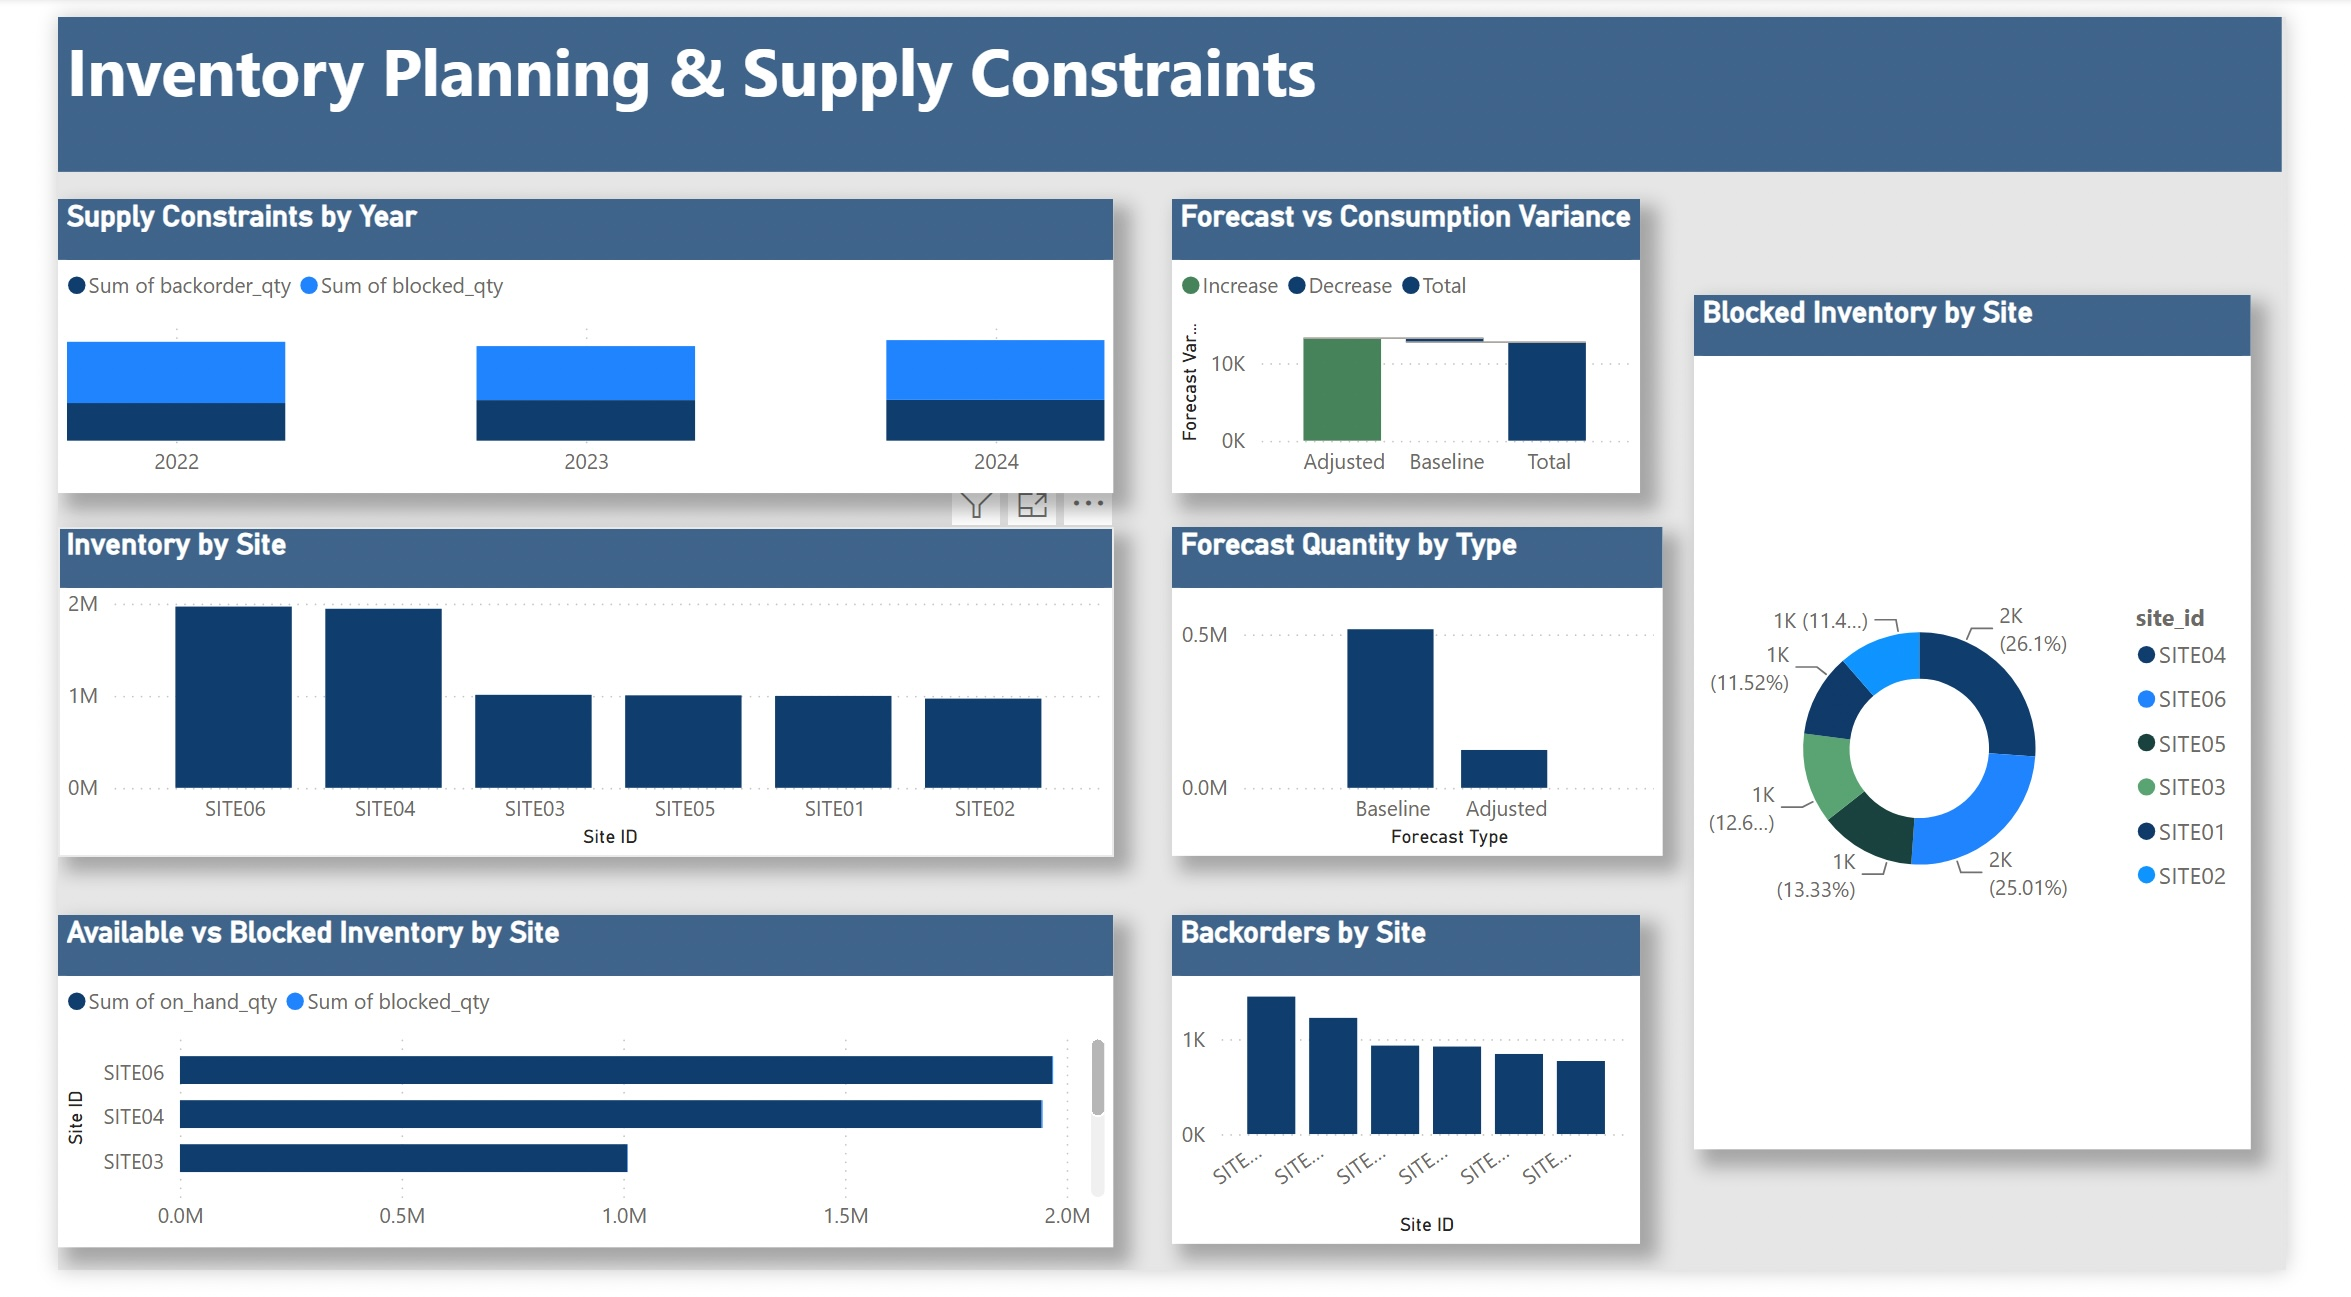

Layout of this report page (visuals, bound fields, positions):
{"tool":"powerbi","page":{"name":"Inventory Planning","canvas":[1280,720],"ordinal":2},"visuals":[{"type":"clusteredColumnChart","title":"Inventory by Site ","fields":{"Category":["supply_chain_project supply_chain_history.site_id"],"Y":["Sum(supply_chain_project supply_chain_history.on_hand_qty)"]},"box":[0,293.3,606.7,188.9],"z":0},{"type":"clusteredColumnChart","title":"Forecast Quantity by Type","fields":{"Category":["supply_chain_project supply_chain_history.forecast_type"],"Y":["Sum(supply_chain_project supply_chain_history.forecast_qty)"]},"box":[640,293.3,282.2,188.9],"z":1000},{"type":"clusteredColumnChart","title":"Backorders by Site","fields":{"Category":["supply_chain_project supply_chain_history.site_id"],"Y":["Sum(supply_chain_project supply_chain_history.backorder_qty)"]},"box":[640,515.6,268.9,188.9],"z":2000},{"type":"columnChart","title":"Supply Constraints by Year","fields":{"Category":["supply_chain_project supply_chain_history.Year"],"Y":["Sum(supply_chain_project supply_chain_history.backorder_qty)","Sum(supply_chain_project supply_chain_history.blocked_qty)"]},"box":[0,104.4,606.7,168.9],"z":3000},{"type":"donutChart","title":"Blocked Inventory by Site","fields":{"Category":["supply_chain_project supply_chain_history.site_id"],"Y":["Sum(supply_chain_project supply_chain_history.blocked_qty)"]},"box":[940,160,320,491.1],"z":4000},{"type":"barChart","title":"Available vs Blocked Inventory by Site","fields":{"Category":["supply_chain_project supply_chain_history.site_id"],"Y":["Sum(supply_chain_project supply_chain_history.on_hand_qty)","Sum(supply_chain_project supply_chain_history.blocked_qty)"]},"box":[0,515.6,606.7,191.1],"z":5000},{"type":"waterfallChart","title":"Forecast vs Consumption Variance","fields":{"Category":["supply_chain_project supply_chain_history.forecast_type"],"Y":["supply_chain_project supply_chain_history.Forecast Variance"]},"box":[640,104.4,268.9,168.9],"z":6000},{"type":"textbox","box":[0,0,1277.8,88.9],"z":7000}]}

Visuals, with their boxes in screenshot pixels (x1, y1, x2, y2), scaled from the page's 1280x720 canvas onto the 2351x1297 screenshot:
"Inventory by Site " clusteredColumnChart: [0,528,1114,869]
"Forecast Quantity by Type" clusteredColumnChart: [1176,528,1694,869]
"Backorders by Site" clusteredColumnChart: [1176,929,1669,1269]
"Supply Constraints by Year" columnChart: [0,188,1114,492]
"Blocked Inventory by Site" donutChart: [1727,288,2314,1173]
"Available vs Blocked Inventory by Site" barChart: [0,929,1114,1273]
"Forecast vs Consumption Variance" waterfallChart: [1176,188,1669,492]
textbox: [0,0,2347,160]
